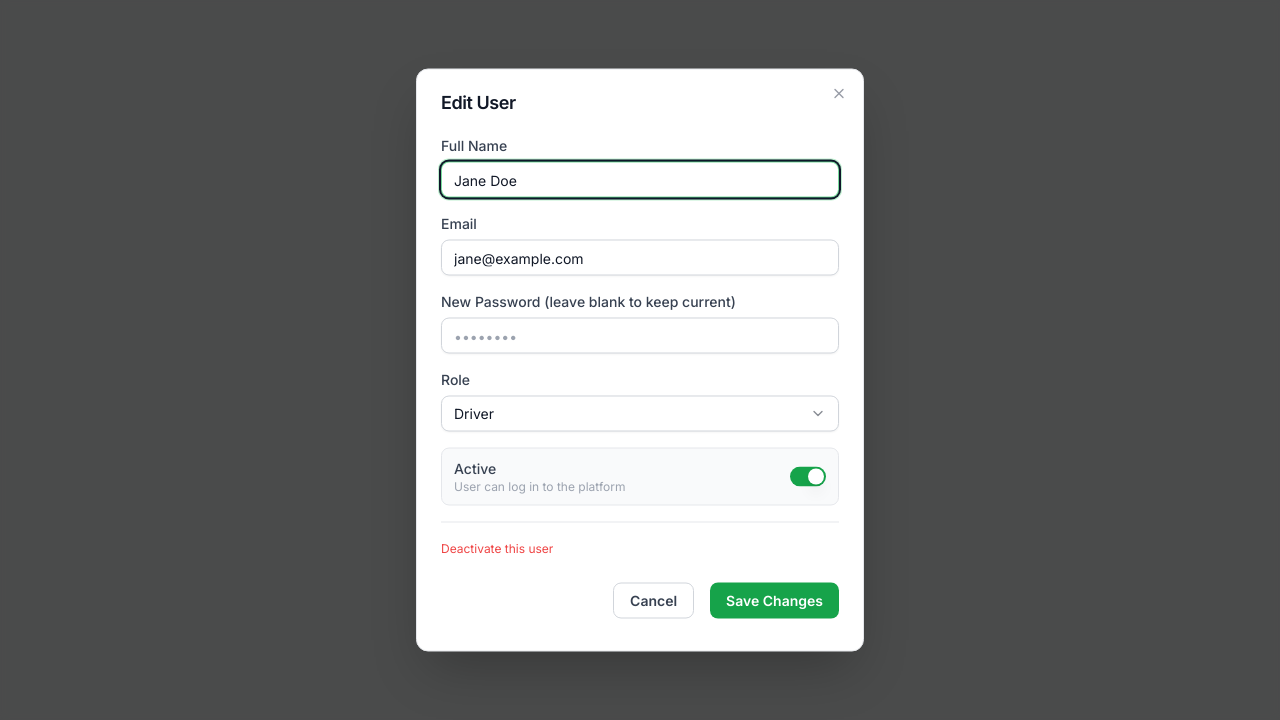
Deactivate confirmation flow › hides confirmation prompt when Cancel is clicked in confirmation
Step 1. Click the button "Deactivate this user" → (497, 548), box [441,540,553,556]
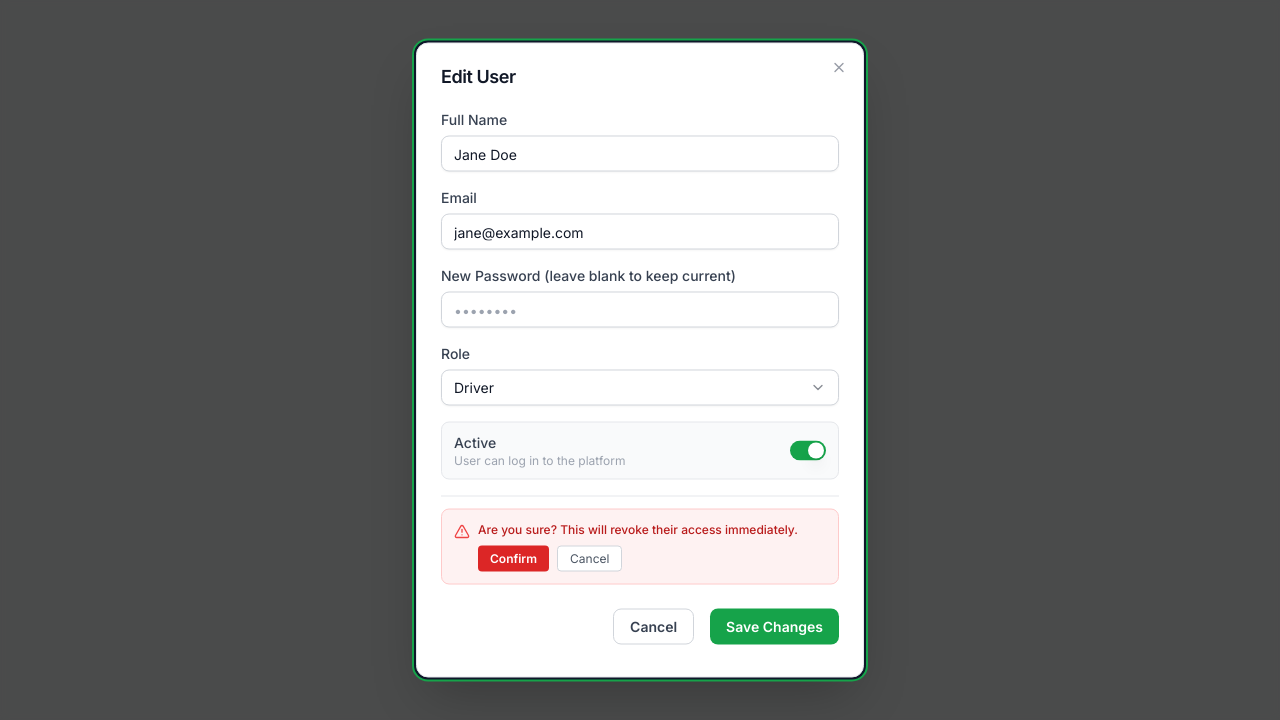
Result: the number of buttons "Cancel" is 2
Step 2. Click the 1st button "Cancel" → (590, 558), box [557,546,622,572]
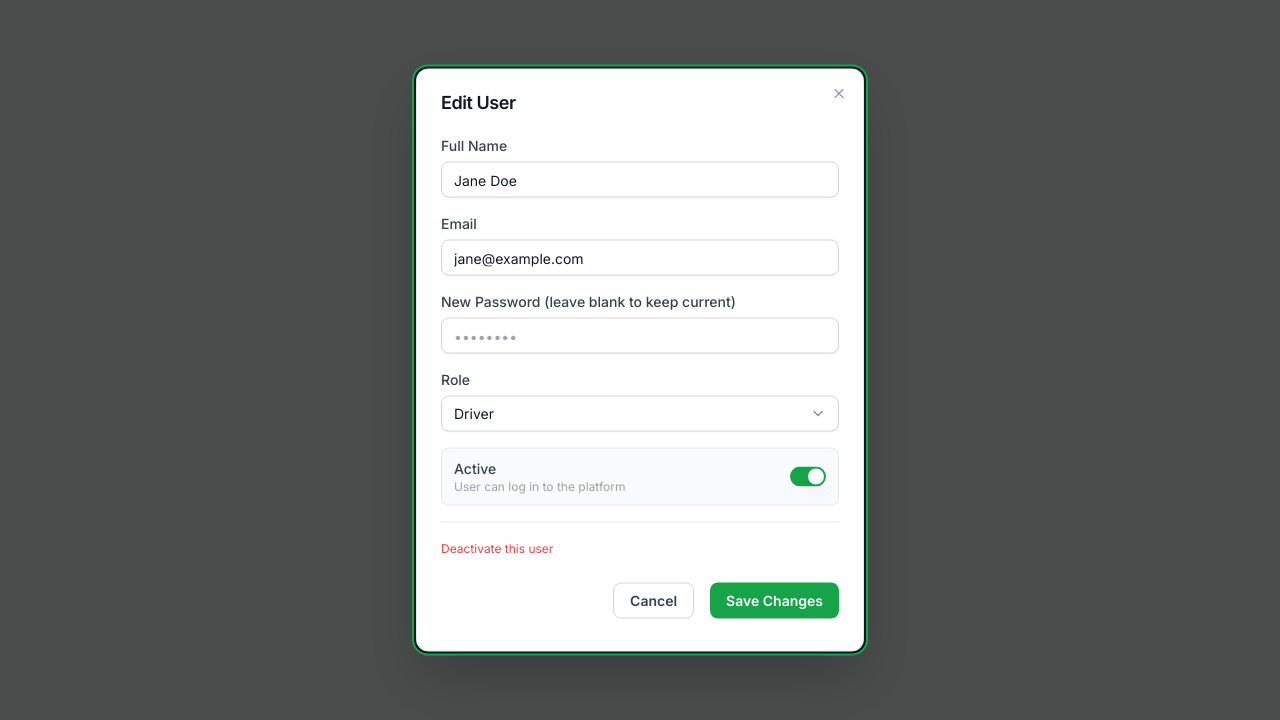
Result: the text "Are you sure" is gone
